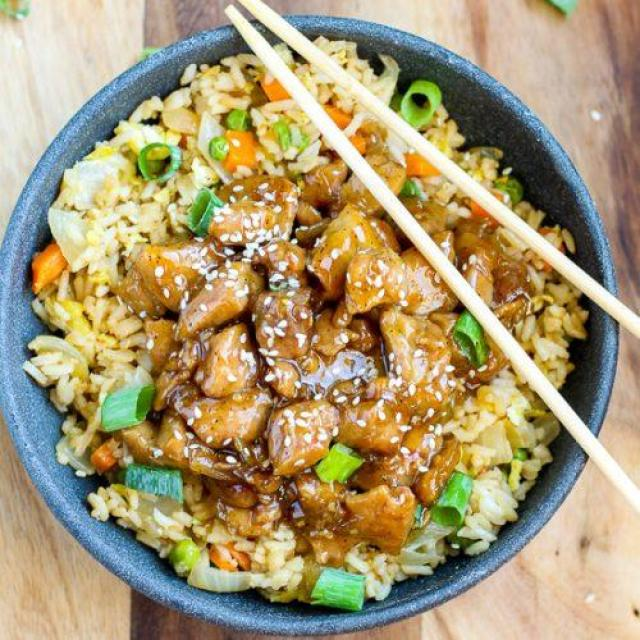Nasi Goreng: (23, 27, 589, 609)
